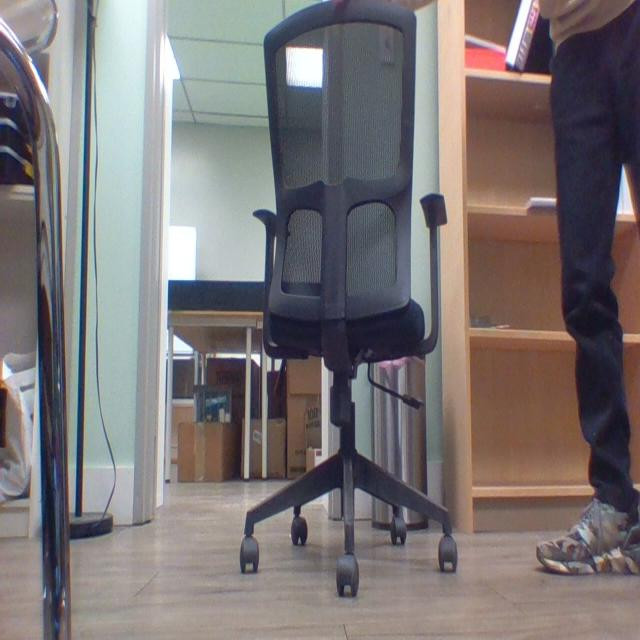black-chair: (244, 1, 462, 603)
